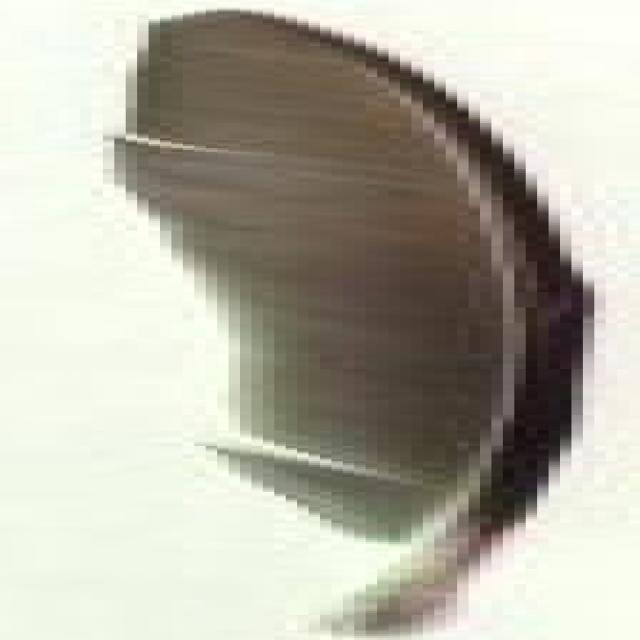feather: (124, 5, 628, 628)
